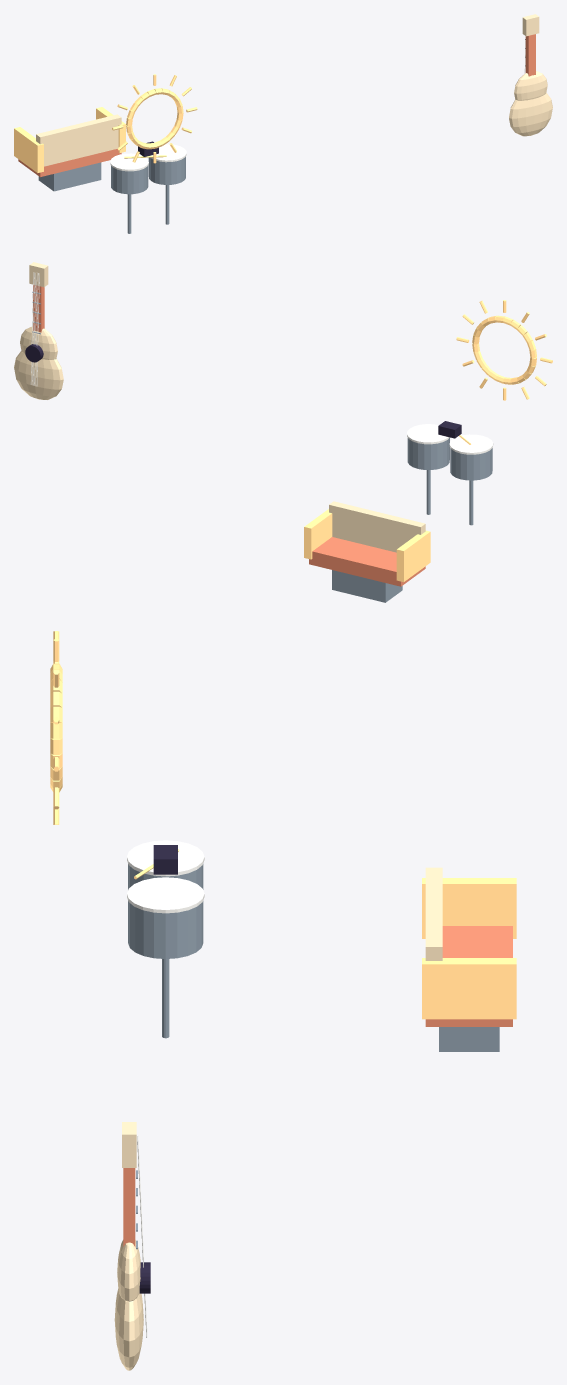
File: studio-props-latin.glb
The picture shows the model from 3 angles, top to bottom: view 1: azimuth 30°, elevation 25°; view 2: azimuth 150°, elevation 25°; view 3: azimuth 270°, elevation 25°; orthographic projection. The views are drawn at different scales.
Parts seen in each view (by area): view 1: latin original studio collection; view 2: latin original studio collection; view 3: latin original studio collection.
Boxes of the visible parts, <box> form: latin original studio collection: <box>14,14,552,233</box>; latin original studio collection: <box>14,262,552,602</box>; latin original studio collection: <box>50,631,516,1370</box>.
Size of the model in its own units: 8.72 by 3.37 by 3.84.
